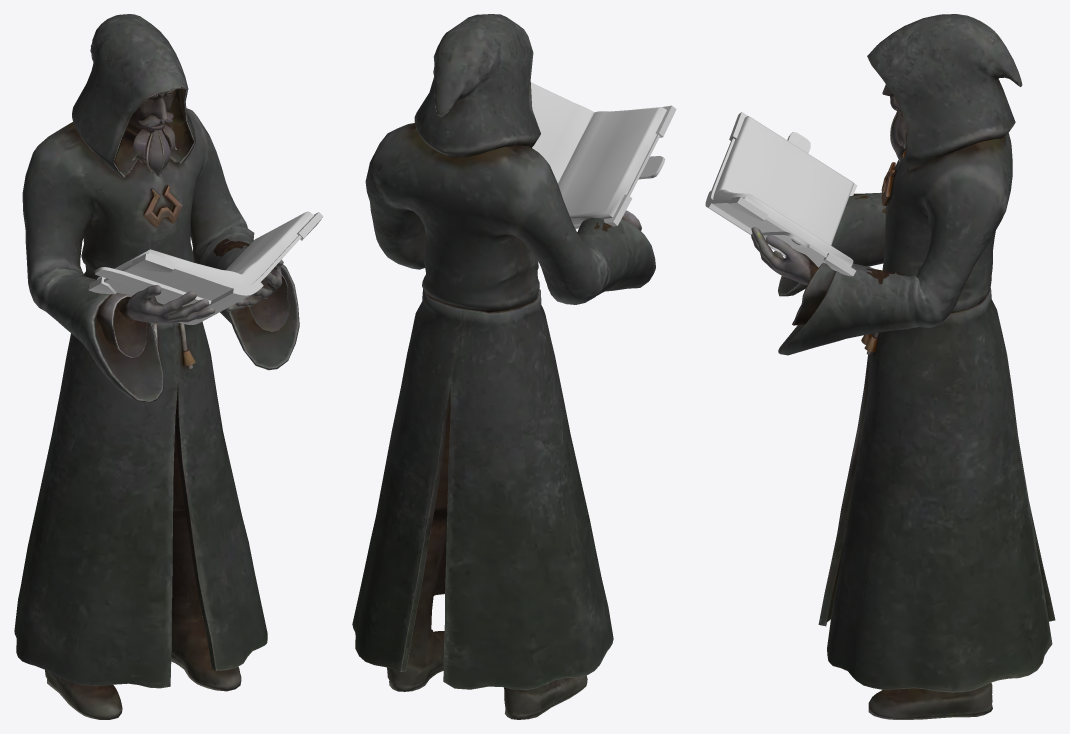
3 views of the same model, side by side, from view 1: azimuth 30°, elevation 25°; view 2: azimuth 150°, elevation 25°; view 3: azimuth 270°, elevation 25° (orthographic). The views are drawn at different scales.
Parts seen in each view (by area): view 1: SM_DR_Statue_ZamorakAcolyte_A_01_LOD0; view 2: SM_DR_Statue_ZamorakAcolyte_A_01_LOD0; view 3: SM_DR_Statue_ZamorakAcolyte_A_01_LOD0.
Boxes of the visible parts, <box> form: SM_DR_Statue_ZamorakAcolyte_A_01_LOD0: <box>14,14,323,719</box>; SM_DR_Statue_ZamorakAcolyte_A_01_LOD0: <box>352,14,676,719</box>; SM_DR_Statue_ZamorakAcolyte_A_01_LOD0: <box>705,14,1055,719</box>.
Size of the model in its own units: 1.37 by 3.79 by 1.81.
